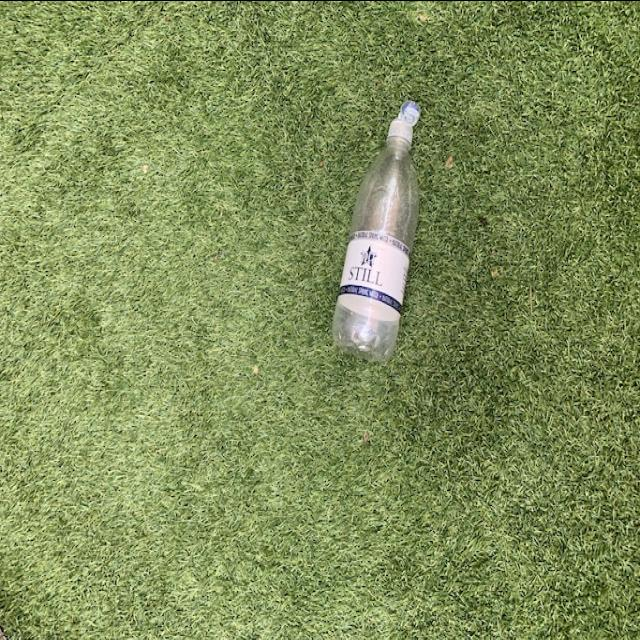PET: (332, 95, 432, 360)
